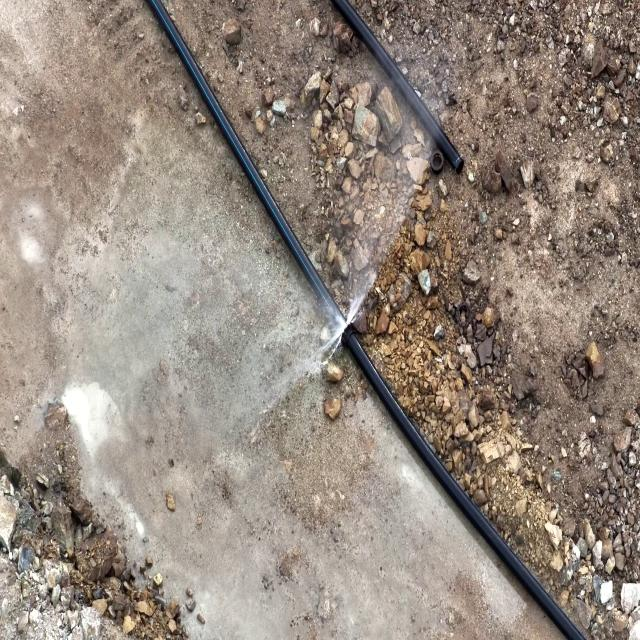leak: (275, 199, 408, 381)
